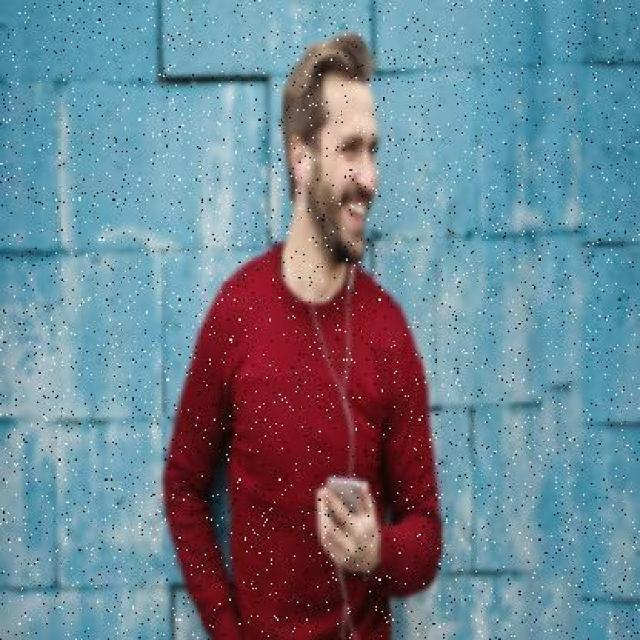person: (165, 35, 442, 640)
